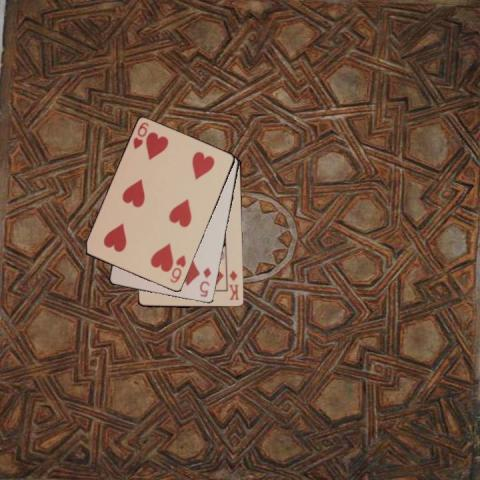5d: (196, 264, 212, 299)
6h: (130, 119, 151, 151), (167, 252, 187, 285)
Kd: (226, 268, 240, 301)
